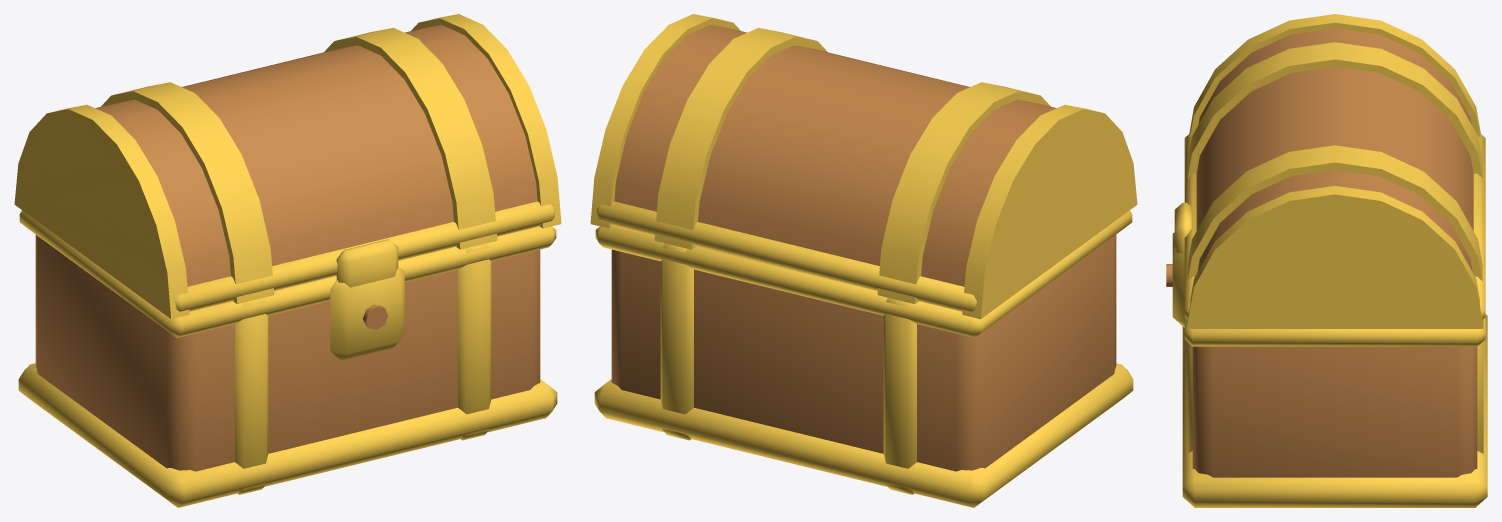
File: chest.glb
The picture shows the model from 3 angles, left to right: view 1: azimuth 30°, elevation 25°; view 2: azimuth 150°, elevation 25°; view 3: azimuth 270°, elevation 25°; orthographic projection. The views are drawn at different scales.
Visible parts, largest first — view 1: Lid, Base; view 2: Lid, Base; view 3: Lid, Base.
Boxes of the visible parts, x1,y1,x2,y2 form: Lid: (14,14,561,319); Base: (18,210,557,507); Lid: (590,14,1137,319); Base: (594,210,1133,507); Lid: (1174,14,1485,328); Base: (1166,232,1487,507).
Bounding box in the file's own units: 1.05 × 0.875 × 0.79.
